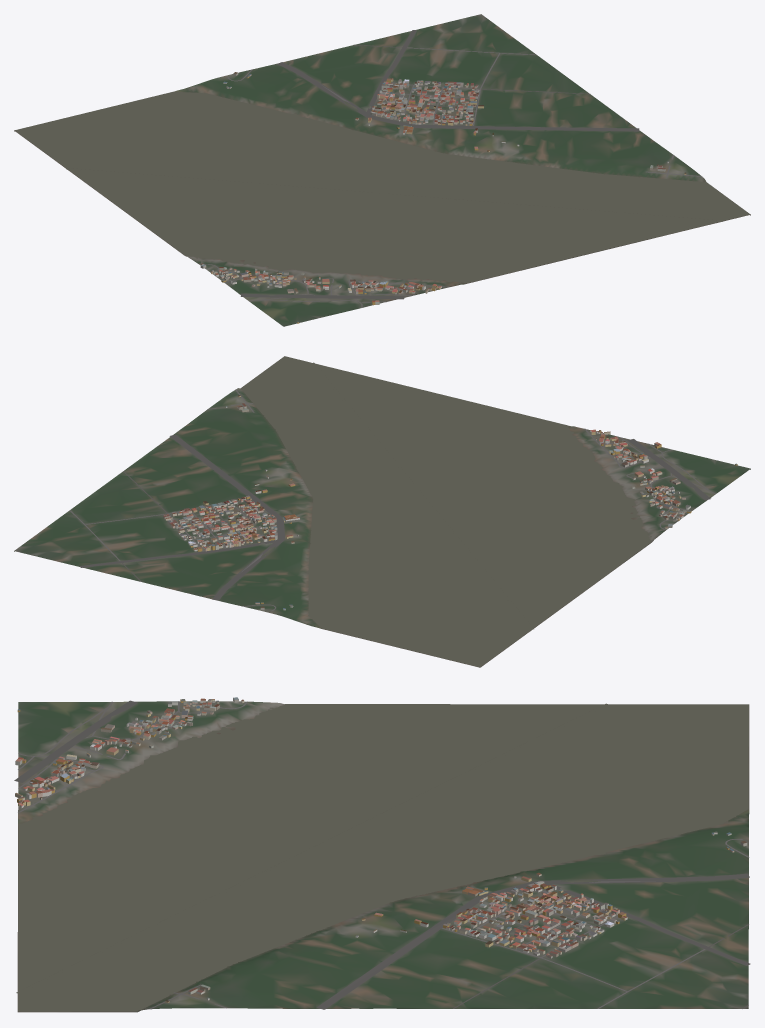
3 views of the same model, one above another, from view 1: azimuth 30°, elevation 25°; view 2: azimuth 150°, elevation 25°; view 3: azimuth 270°, elevation 25° (orthographic). The views are drawn at different scales.
Visible parts, largest first — view 1: water, ground, buildings, roads; view 2: water, ground, buildings, roads; view 3: water, ground, buildings, roads.
Boxes of the visible parts, <box> form: water: <box>15,91,749,283</box>; ground: <box>14,14,750,326</box>; buildings: <box>200,72,686,323</box>; roads: <box>199,15,702,307</box>; water: <box>241,356,651,666</box>; ground: <box>14,362,750,667</box>; buildings: <box>163,395,737,610</box>; roads: <box>16,389,715,611</box>; water: <box>16,703,748,1011</box>; ground: <box>17,701,749,1012</box>; buildings: <box>15,697,747,1002</box>; roads: <box>14,700,750,1009</box>.
Bounding box in the file's own units: 1410 × 24.27 × 1413.
